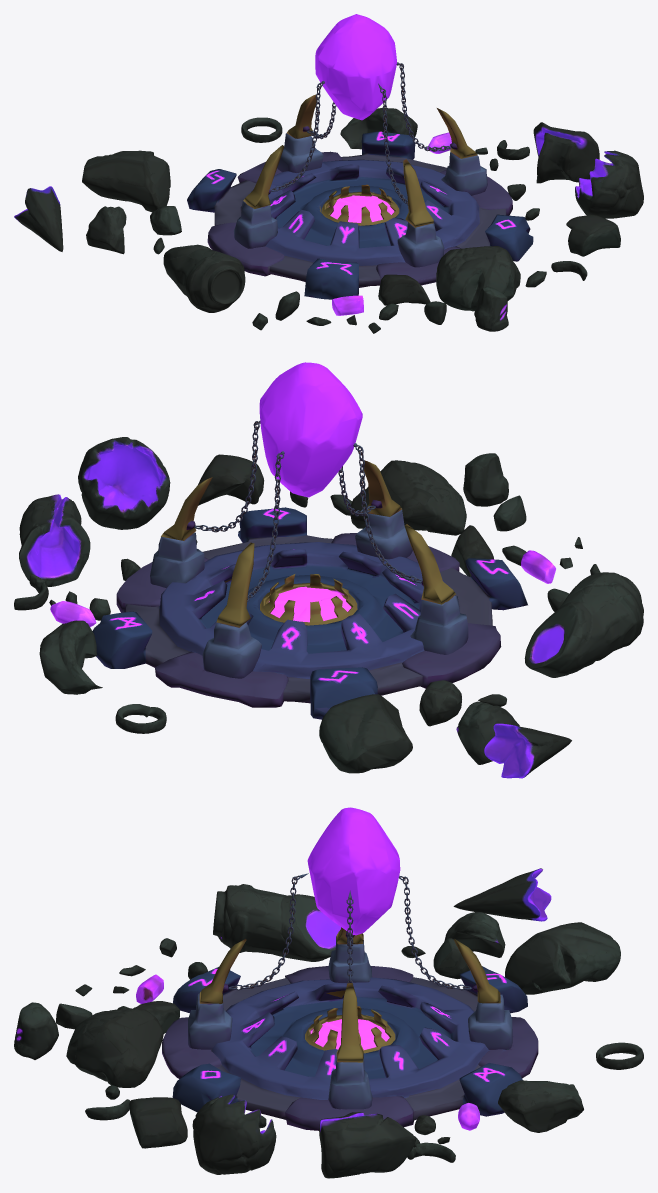
Rendered from alter&golem.fbx.
3 views of the same model, one above another, from view 1: azimuth 30°, elevation 25°; view 2: azimuth 150°, elevation 25°; view 3: azimuth 270°, elevation 25° (orthographic). The views are drawn at different scales.
Visible parts, largest first — view 1: altar, core, polySurface11, polySurface27, polySurface23, polySurface28, polySurface16, polySurface29, chain, polySurface17, polySurface3, polySurface4 (+6 smaller); view 2: altar, core, polySurface27, polySurface28, polySurface23, polySurface16, polySurface11, polySurface3, polySurface29, chain, polySurface17, polySurface4 (+8 smaller); view 3: altar, core, polySurface27, polySurface23, polySurface11, polySurface16, polySurface28, polySurface3, polySurface29, polySurface17, polySurface1, chain (+8 smaller).
Boxes of the visible parts, <box> form: altar: <box>187,94,533,299</box>; core: <box>315,14,396,120</box>; polySurface11: <box>436,246,520,311</box>; polySurface27: <box>163,244,245,312</box>; polySurface23: <box>82,150,170,212</box>; polySurface28: <box>575,150,643,218</box>; polySurface16: <box>533,122,599,183</box>; polySurface29: <box>14,186,63,251</box>; chain: <box>270,62,451,205</box>; polySurface17: <box>566,215,620,256</box>; polySurface3: <box>340,107,417,149</box>; polySurface4: <box>86,206,126,254</box>; altar: <box>92,460,527,719</box>; core: <box>259,362,362,497</box>; polySurface27: <box>524,572,643,677</box>; polySurface28: <box>78,437,170,529</box>; polySurface23: <box>319,694,412,773</box>; polySurface16: <box>19,494,90,586</box>; polySurface11: <box>350,460,466,535</box>; polySurface3: <box>39,620,102,694</box>; polySurface29: <box>484,723,571,778</box>; chain: <box>194,421,422,601</box>; polySurface17: <box>198,454,264,505</box>; polySurface4: <box>456,701,519,764</box>; altar: <box>162,927,538,1130</box>; core: <box>307,807,400,935</box>; polySurface27: <box>213,884,340,961</box>; polySurface23: <box>505,922,620,994</box>; polySurface11: <box>66,1007,163,1087</box>; polySurface16: <box>319,1112,415,1178</box>; polySurface28: <box>192,1094,276,1174</box>; polySurface3: <box>498,1080,583,1132</box>; polySurface29: <box>453,868,551,921</box>; polySurface17: <box>128,1097,187,1148</box>; polySurface1: <box>14,1002,58,1059</box>; chain: <box>228,873,471,990</box>.
Bounding box in the file's own units: 896 × 388 × 853.
